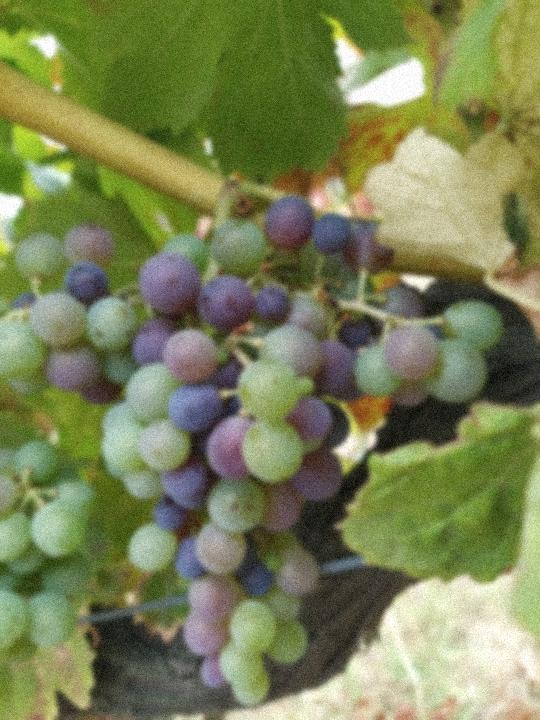grape: (0, 192, 507, 707)
